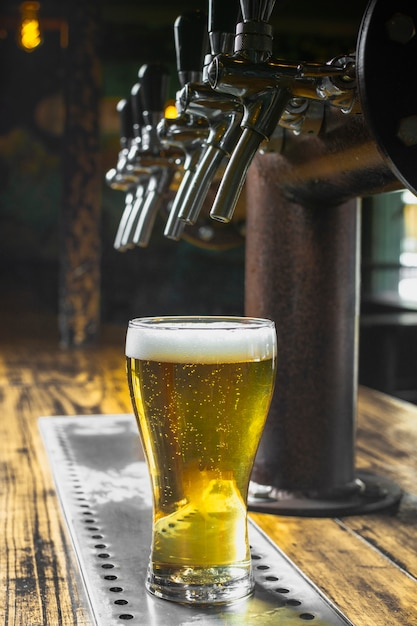alcohol: (124, 311, 279, 611)
